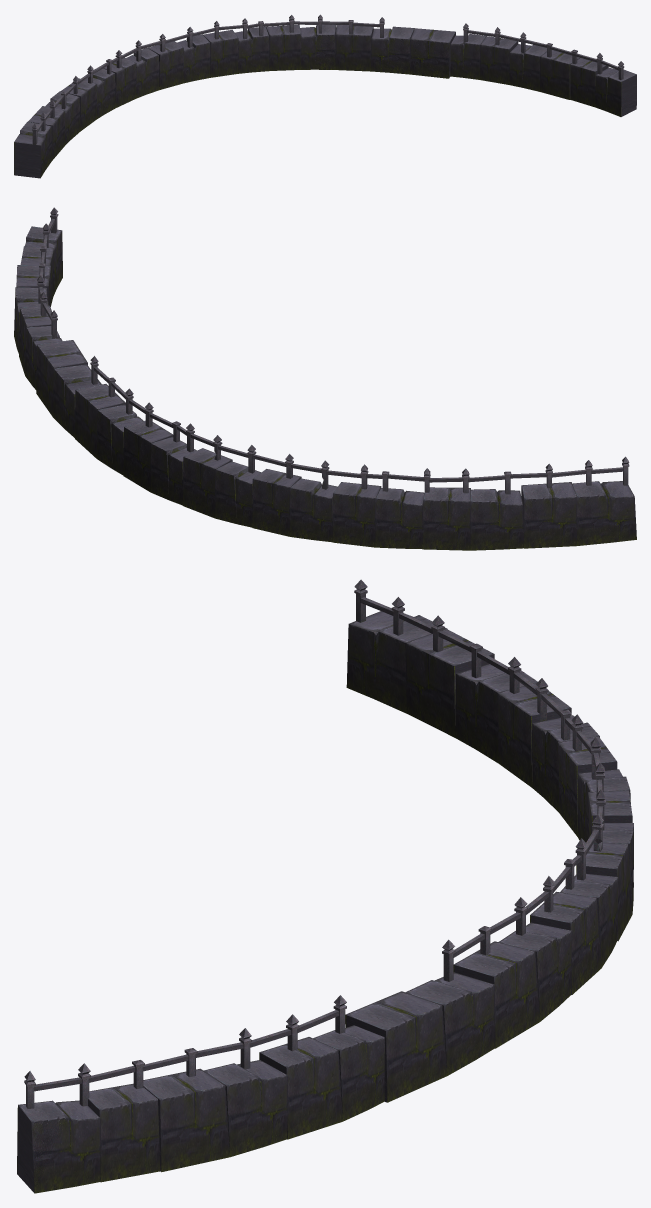
Rendered from yw_langhuanfudi_taijie02.FBX.
3 views of the same model, one above another, from view 1: azimuth 30°, elevation 25°; view 2: azimuth 150°, elevation 25°; view 3: azimuth 270°, elevation 25° (orthographic). The views are drawn at different scales.
Parts seen in each view (by area): view 1: yw_langhuanfudi_taijie02; view 2: yw_langhuanfudi_taijie02; view 3: yw_langhuanfudi_taijie02.
Part boxes in pixels (x1,y1,x2,y2): yw_langhuanfudi_taijie02: [14, 14, 636, 178]; yw_langhuanfudi_taijie02: [14, 207, 636, 550]; yw_langhuanfudi_taijie02: [17, 579, 633, 1193].
Bounding box in the file's own units: 3107 × 298 × 1552.
1 material, 1 textured.
